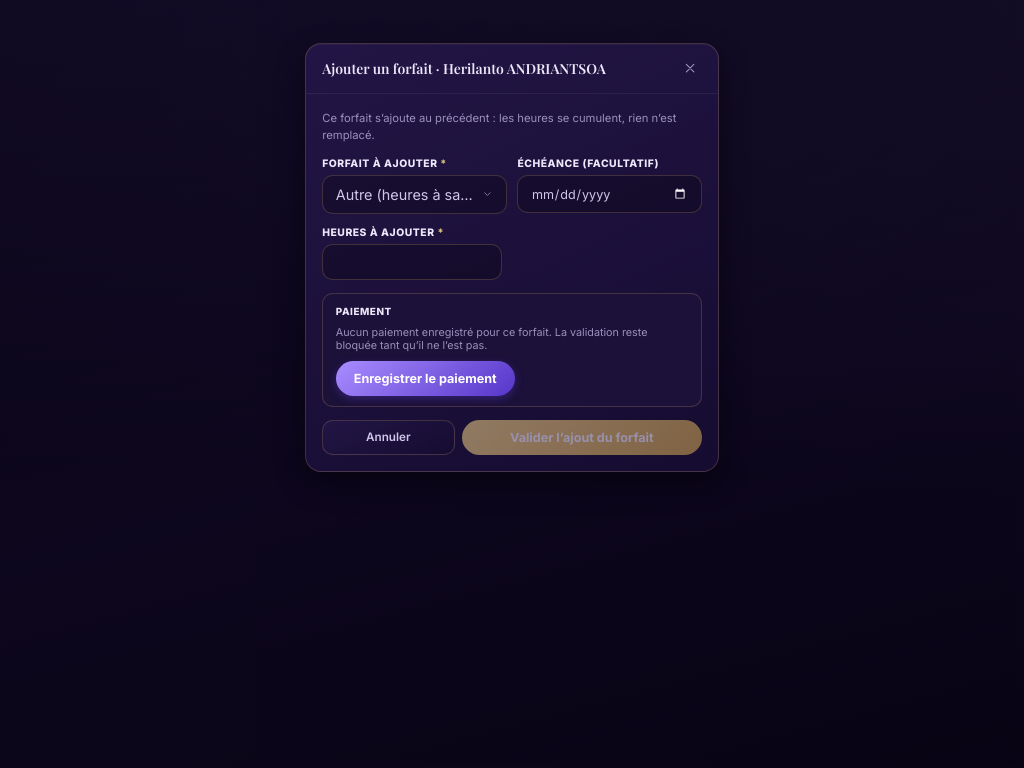
Test: AjouterForfaitModale — liste des forfaits HOC › laisse saisir des heures libres hors grille
The image size is (1024, 768).
Expected: the number field labelled "Heures à ajouter *" is shown, [322,244,502,280]
Click the button named "Forfait à ajouter": (414, 194) [322,175,507,214]
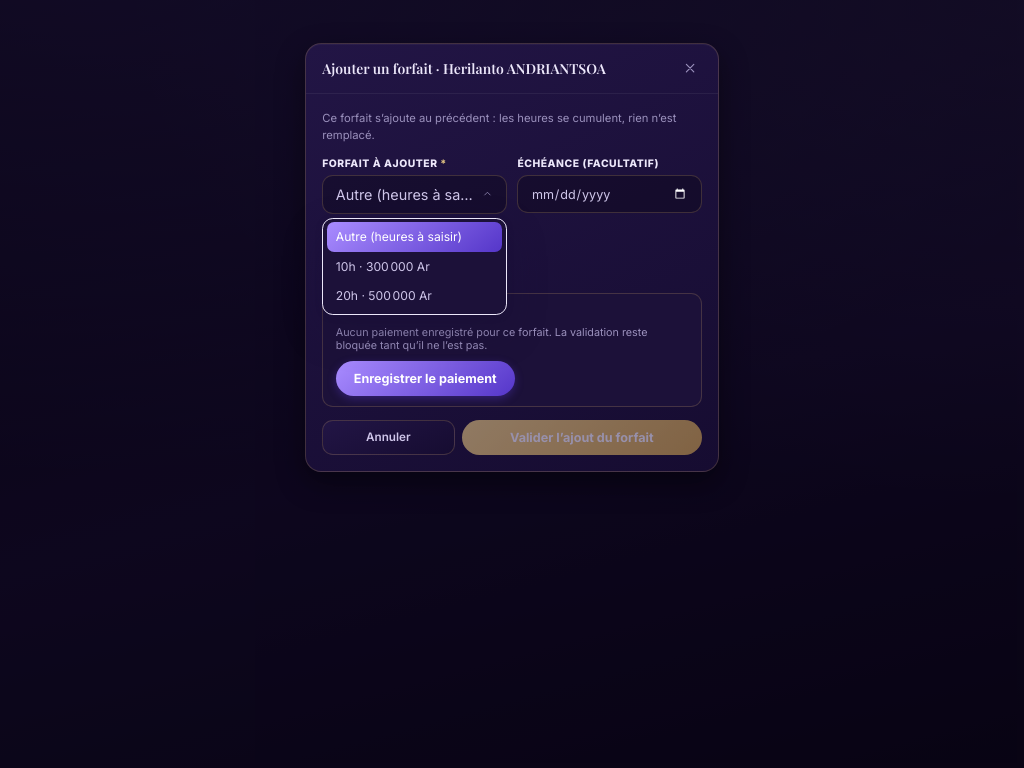
Click the option "10h · 300 000 Ar": (414, 266) [327,252,502,281]
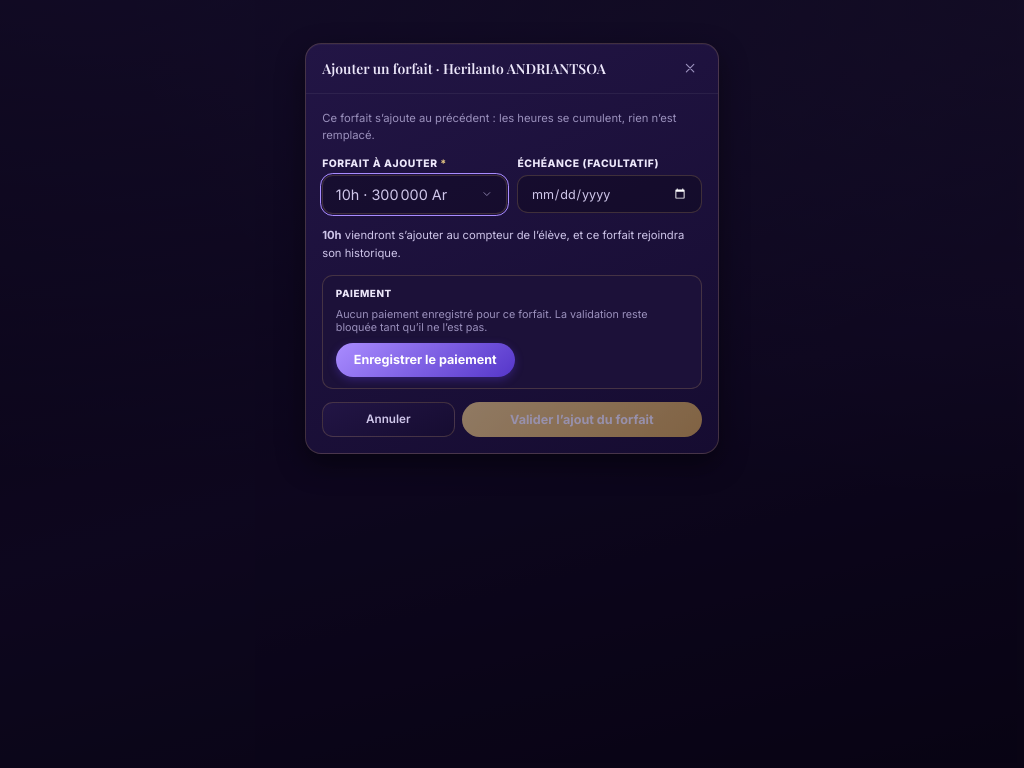
Expected: the field labelled "Heures à ajouter" is gone
